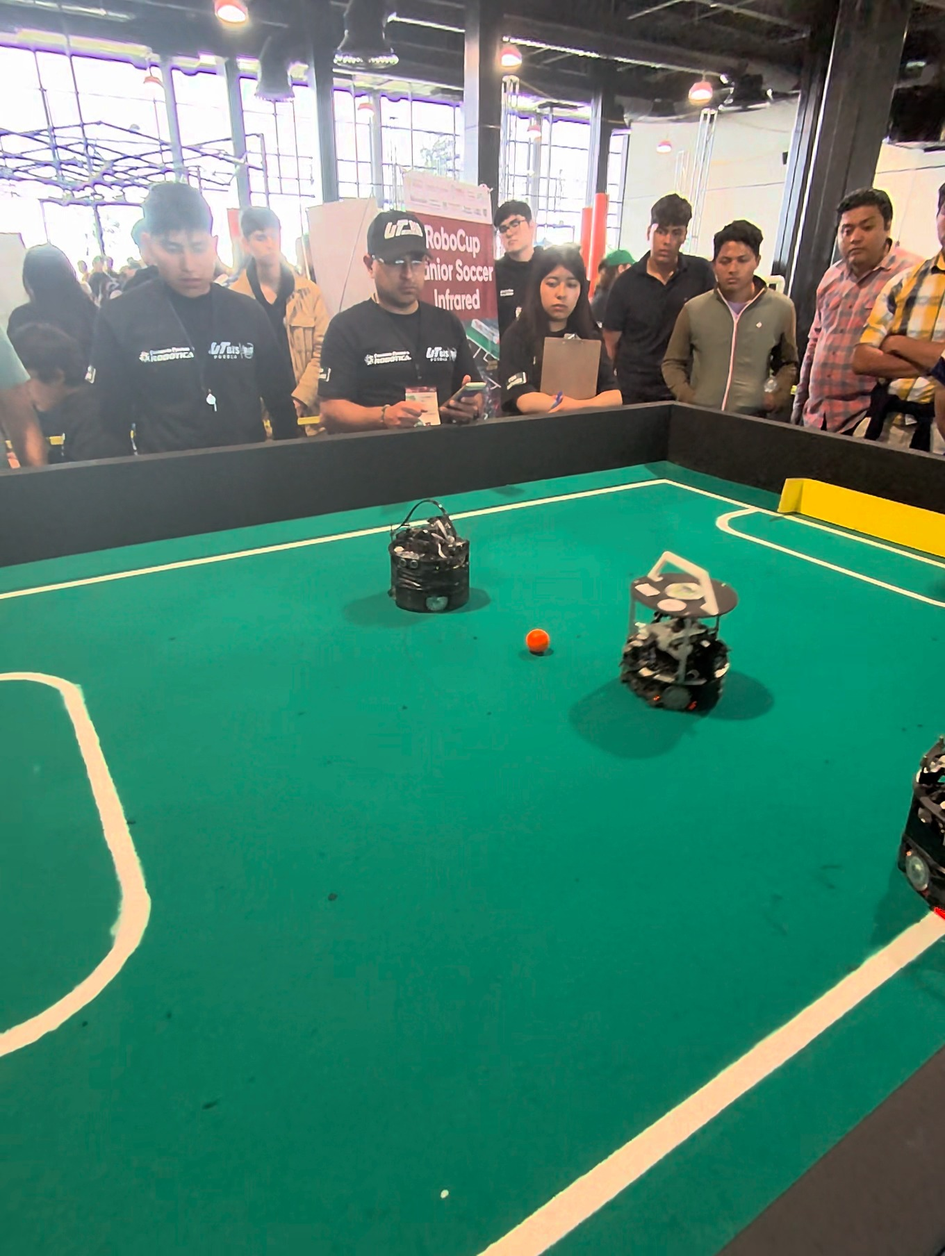Robot: (614, 535, 737, 725), (897, 672, 945, 937), (385, 504, 473, 622)
pelota: (525, 628, 550, 654)
